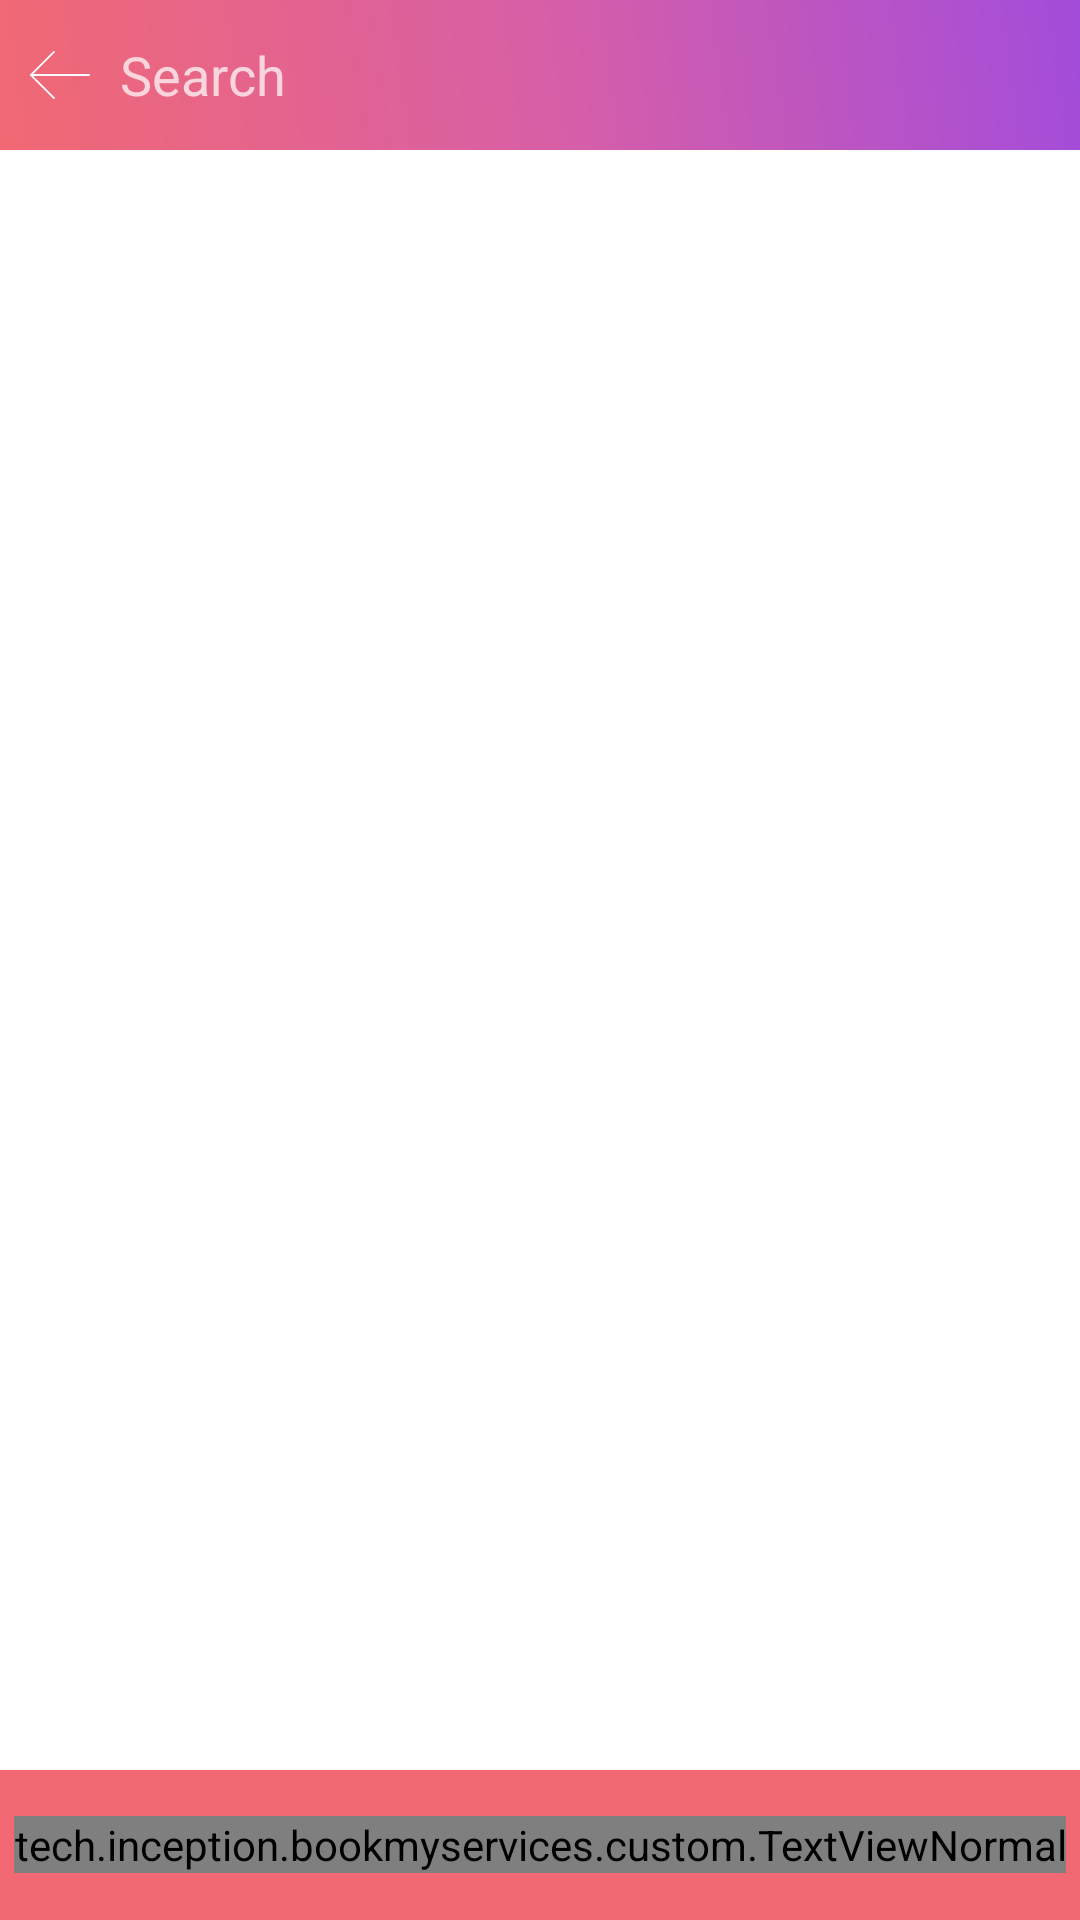

Icons on this 1080 x 1920 Android screen, each with its box as (x1,y1,x2,y2):
back: (30,51,90,99)
